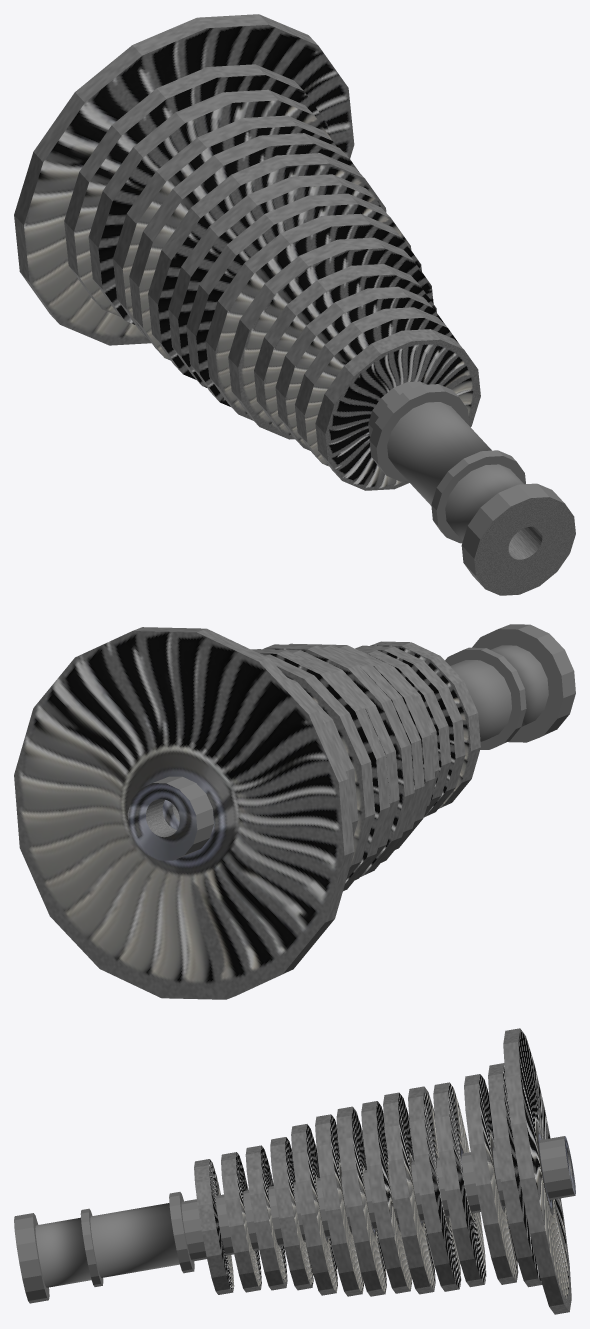
The model's file is tikitown_rotors.fbx.
The picture shows the model from 3 angles, top to bottom: view 1: azimuth 30°, elevation 25°; view 2: azimuth 150°, elevation 25°; view 3: azimuth 270°, elevation 25°; orthographic projection. The views are drawn at different scales.
Parts seen in each view (by area): view 1: turbine_rotor.001; view 2: turbine_rotor.001; view 3: turbine_rotor.001.
Boxes of the visible parts, x1,y1,x2,y2 form: turbine_rotor.001: (14, 14, 575, 595); turbine_rotor.001: (14, 624, 575, 999); turbine_rotor.001: (14, 1028, 575, 1314).
Bounding box in the file's own units: 0.7452 × 0.7395 × 1.45.
